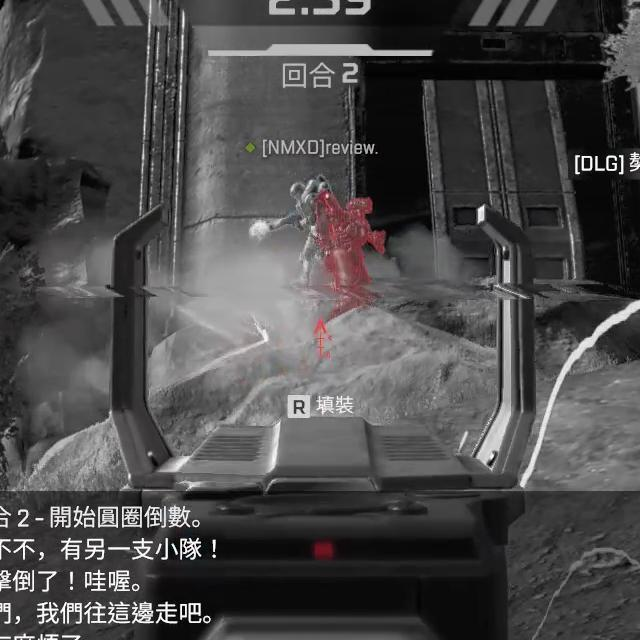avatar: (311, 189, 386, 325)
